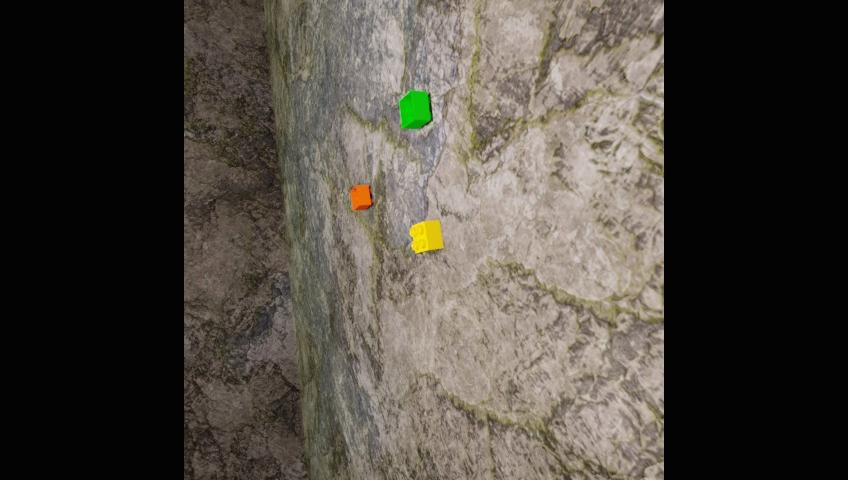2x2_green: (398, 90, 431, 129)
2x2_orange: (350, 186, 372, 210)
2x2_yellow: (409, 221, 443, 252)
